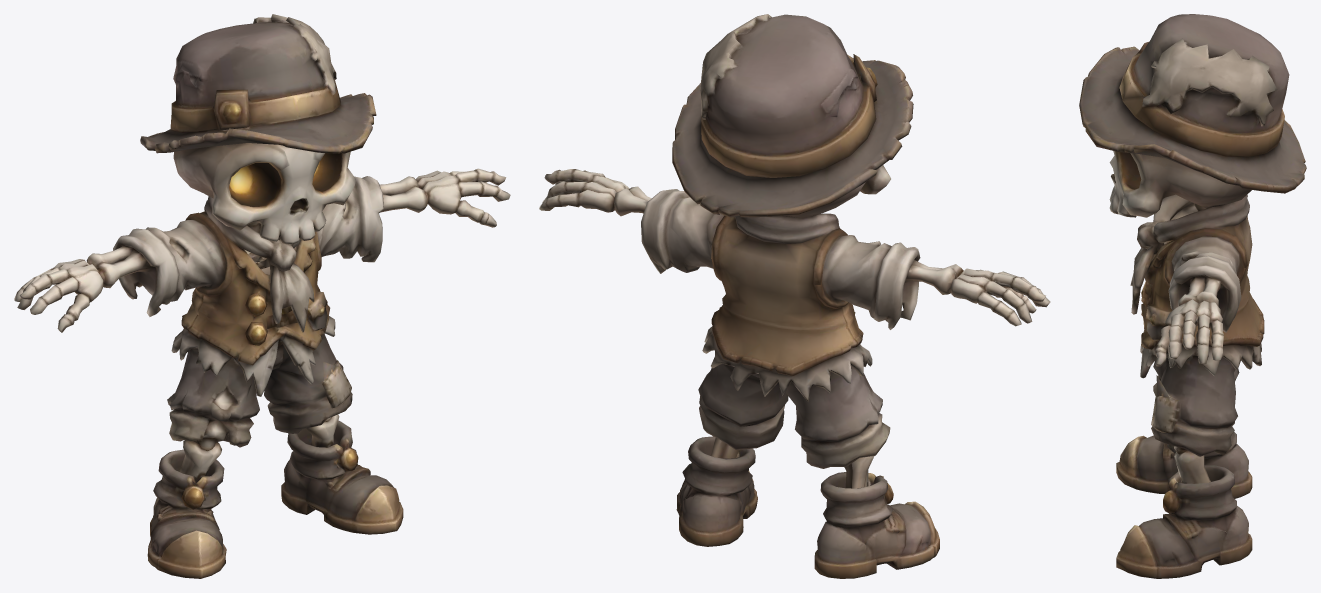
File: retopo.glb
3 views of the same model, side by side, from view 1: azimuth 30°, elevation 25°; view 2: azimuth 150°, elevation 25°; view 3: azimuth 270°, elevation 25° (orthographic). The views are drawn at different scales.
Visible parts, largest first — view 1: tripo_node_a714128d-b4bb-44df-ac77-ef9d0196f848; view 2: tripo_node_a714128d-b4bb-44df-ac77-ef9d0196f848; view 3: tripo_node_a714128d-b4bb-44df-ac77-ef9d0196f848.
Part boxes in pixels (left/top/right/bottom): tripo_node_a714128d-b4bb-44df-ac77-ef9d0196f848: left=14, top=14, right=510, bottom=578; tripo_node_a714128d-b4bb-44df-ac77-ef9d0196f848: left=539, top=14, right=1050, bottom=578; tripo_node_a714128d-b4bb-44df-ac77-ef9d0196f848: left=1079, top=14, right=1306, bottom=578.
Size of the model in its own units: 0.9778 by 0.9625 by 0.3999.
1 material, 1 textured.
